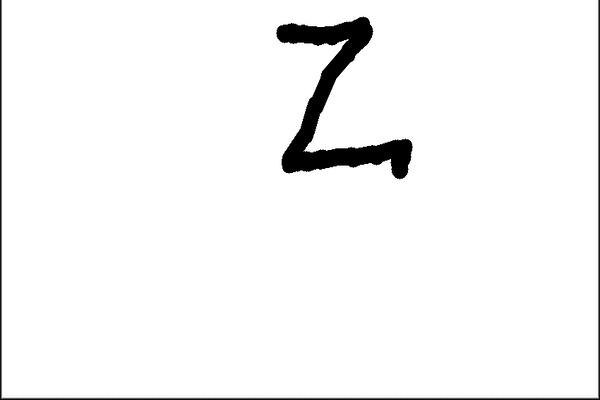Z: (265, 6, 416, 182)
